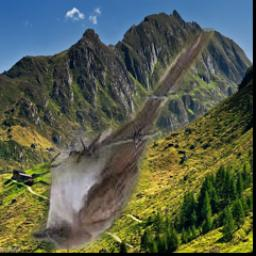Cuckoo: (32, 28, 216, 250)
